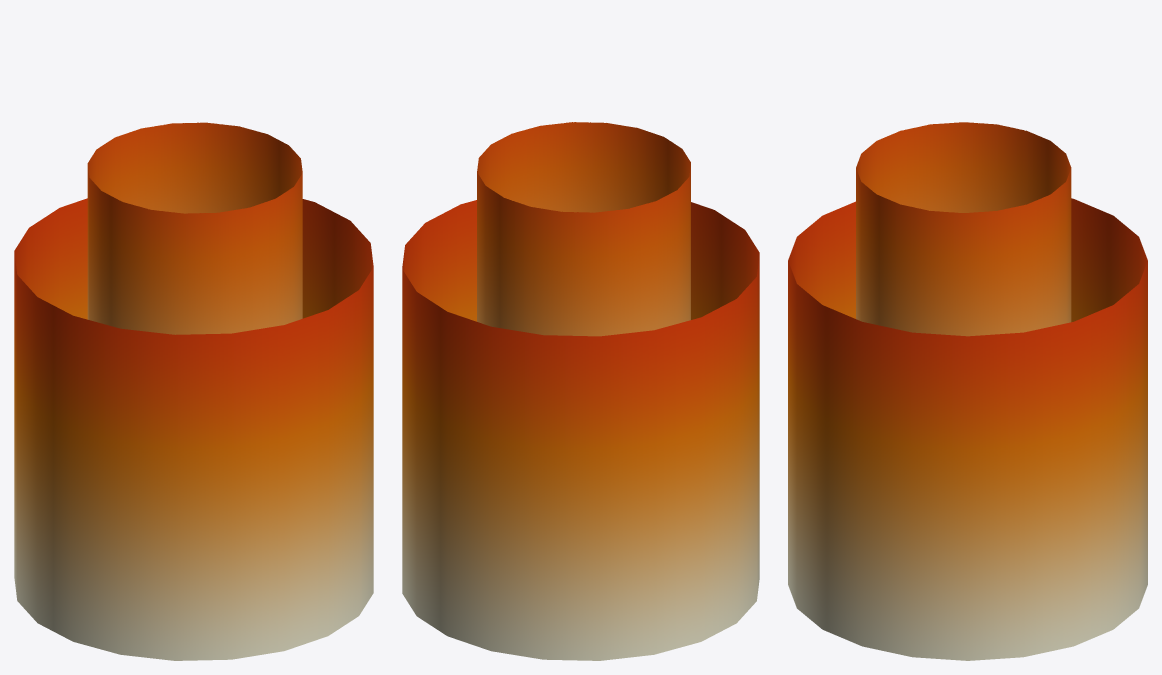
Rendered from firework.fbx.
The picture shows the model from 3 angles, left to right: view 1: azimuth 30°, elevation 25°; view 2: azimuth 150°, elevation 25°; view 3: azimuth 270°, elevation 25°; orthographic projection.
Visible parts, largest first — view 1: pCylinder1, pCylinder2; view 2: pCylinder1, pCylinder2; view 3: pCylinder1, pCylinder2.
Boxes of the visible parts, x1=… form: pCylinder1: x1=14, y1=198, x2=373, y2=660; pCylinder2: x1=87, y1=122, x2=302, y2=334; pCylinder1: x1=402, y1=200, x2=759, y2=660; pCylinder2: x1=477, y1=122, x2=690, y2=336; pCylinder1: x1=788, y1=198, x2=1147, y2=660; pCylinder2: x1=856, y1=122, x2=1071, y2=336.
Size of the model in its own units: 8.05 by 12.97 by 8.05.
